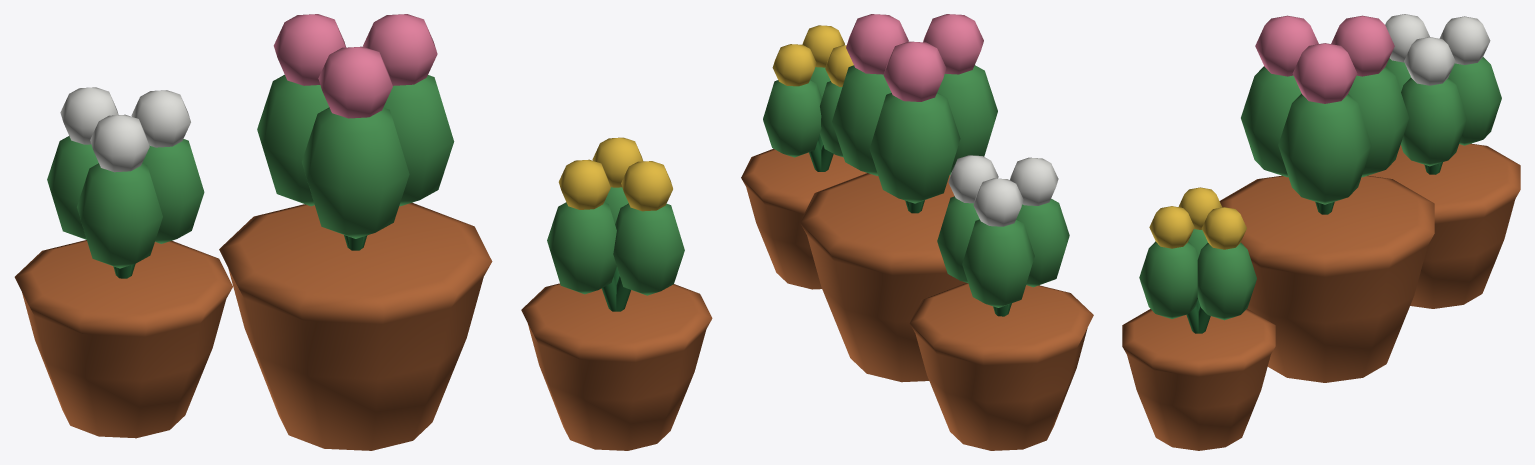
The model's file is decor_3.fbx.
3 renders of one model, left to right at view 1: azimuth 30°, elevation 25°; view 2: azimuth 150°, elevation 25°; view 3: azimuth 270°, elevation 25°, orthographic. The views are drawn at different scales.
Parts seen in each view (by area): view 1: decor_3; view 2: decor_3; view 3: decor_3.
Boxes of the visible parts, <box> form: decor_3: <box>14,14,712,450</box>; decor_3: <box>741,14,1093,450</box>; decor_3: <box>1122,14,1520,450</box>.
Bounding box in the file's own units: 1.43 × 1.01 × 1.11.
